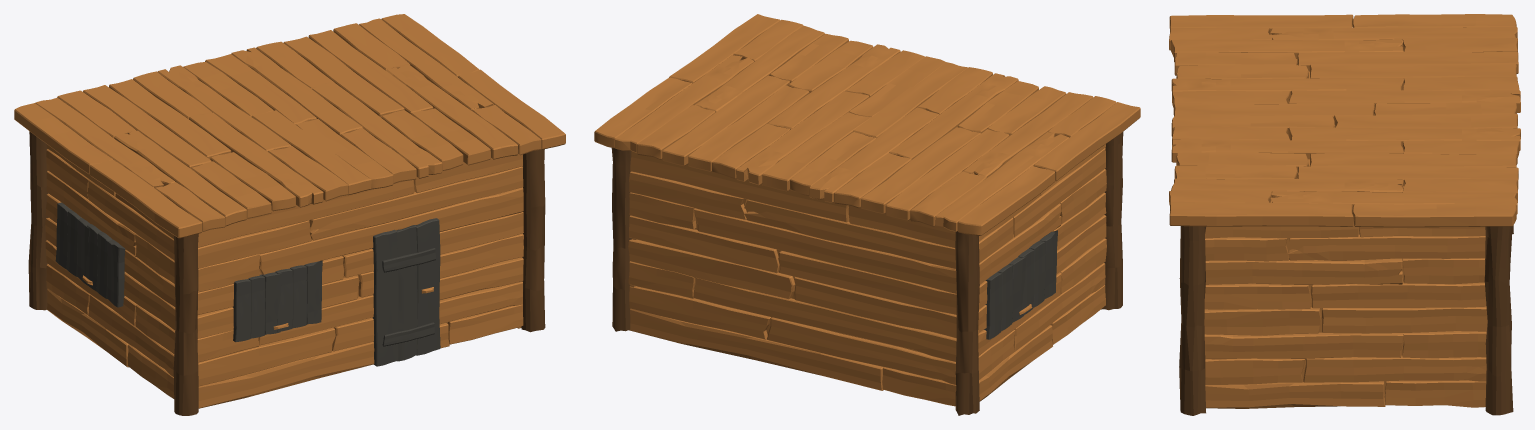
Rendered from WoodShackFlat.fbx.
The picture shows the model from 3 angles, left to right: view 1: azimuth 30°, elevation 25°; view 2: azimuth 150°, elevation 25°; view 3: azimuth 270°, elevation 25°; orthographic projection. The views are drawn at different scales.
Parts seen in each view (by area): view 1: WoodShackFlat; view 2: WoodShackFlat; view 3: WoodShackFlat.
Boxes of the visible parts, <box> form: WoodShackFlat: <box>14,14,565,415</box>; WoodShackFlat: <box>594,14,1140,415</box>; WoodShackFlat: <box>1169,14,1520,415</box>.
Size of the model in its own units: 1140 by 550 by 838.
